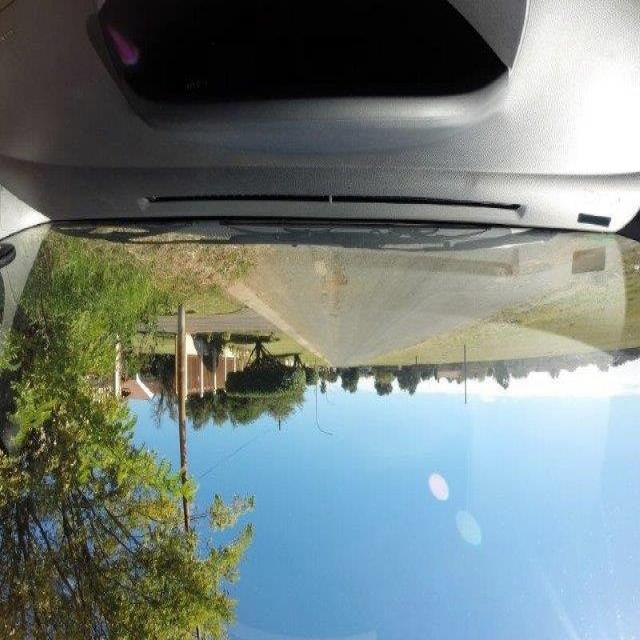lubang: (318, 266, 351, 298)
